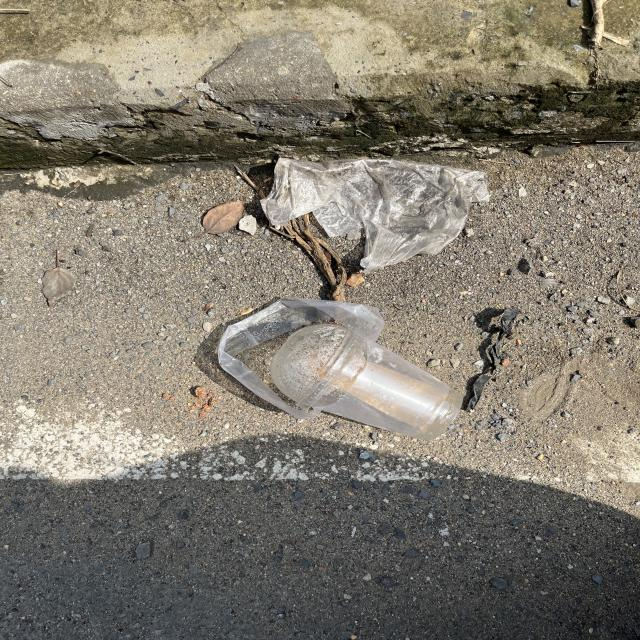bag: (259, 156, 492, 270)
plastic glass: (270, 323, 464, 443)
